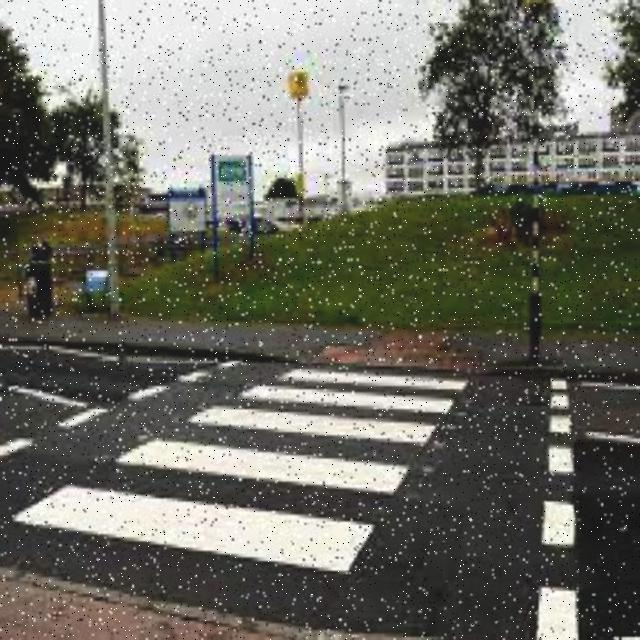Pedestrian crosswalk: (5, 357, 478, 605)
